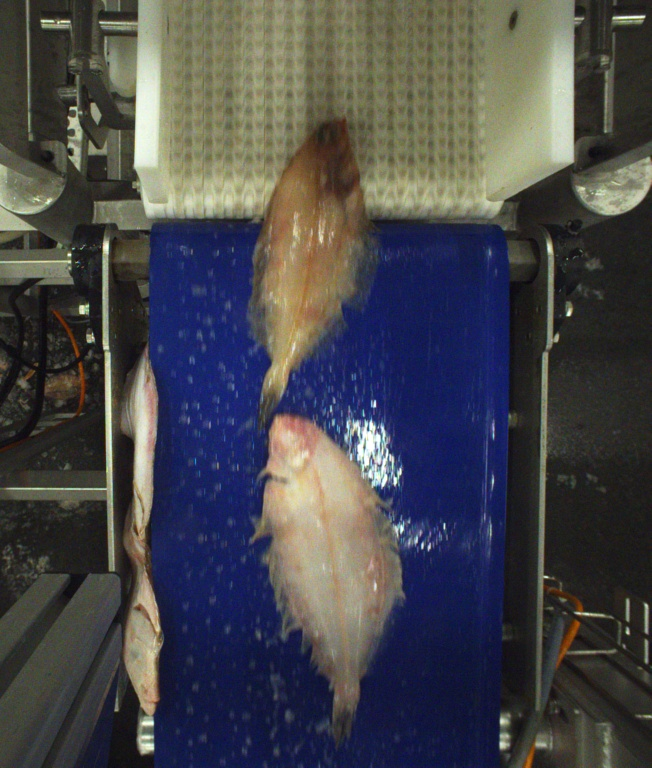WIT: (254, 118, 376, 429)
